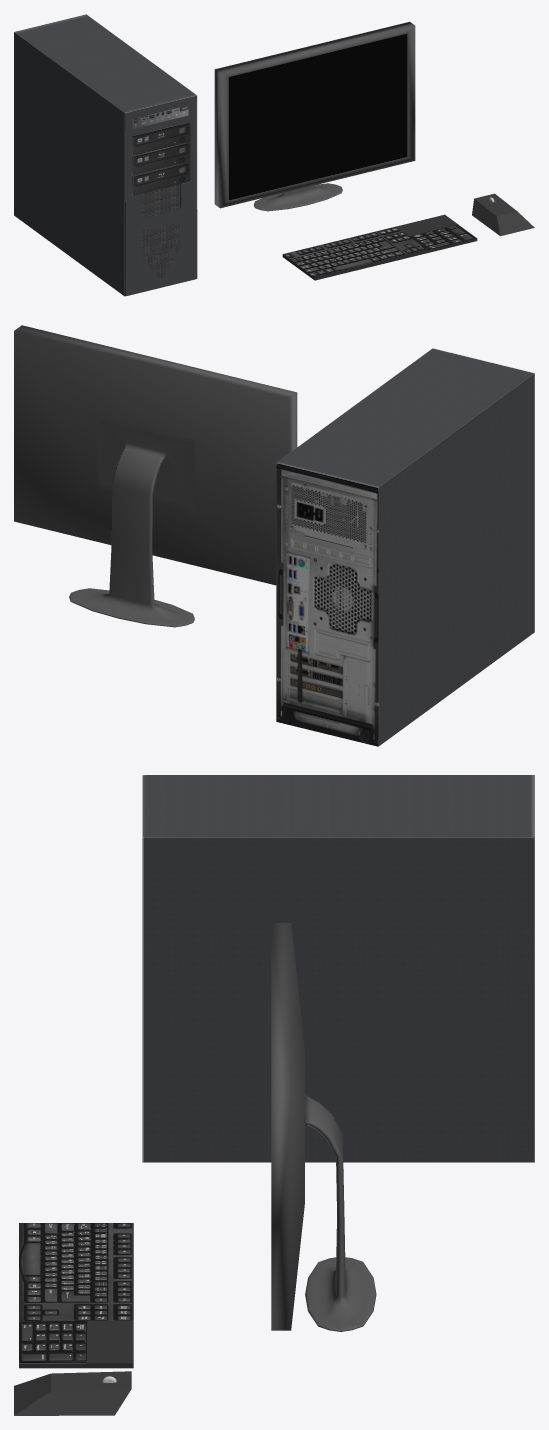
3 views of the same model, one above another, from view 1: azimuth 30°, elevation 25°; view 2: azimuth 150°, elevation 25°; view 3: azimuth 270°, elevation 25° (orthographic). The views are drawn at different scales.
Visible parts, largest first — view 1: CPU, Monitor, Teclado, mouse; view 2: CPU, Monitor; view 3: CPU, Monitor, Teclado, mouse.
Boxes of the visible parts, left/top/right/bottom form: CPU: left=14, top=14, right=197, bottom=296; Monitor: left=214, top=21, right=415, bottom=211; Teclado: left=282, top=214, right=477, bottom=280; mouse: left=472, top=193, right=534, bottom=236; CPU: left=276, top=348, right=534, bottom=746; Monitor: left=14, top=325, right=297, bottom=627; CPU: left=142, top=775, right=534, bottom=1162; Monitor: left=271, top=923, right=376, bottom=1331; Teclado: left=19, top=1223, right=133, bottom=1368; mouse: left=14, top=1371, right=131, bottom=1415.
Size of the model in its own units: 14.51 by 6.8 by 9.89.
